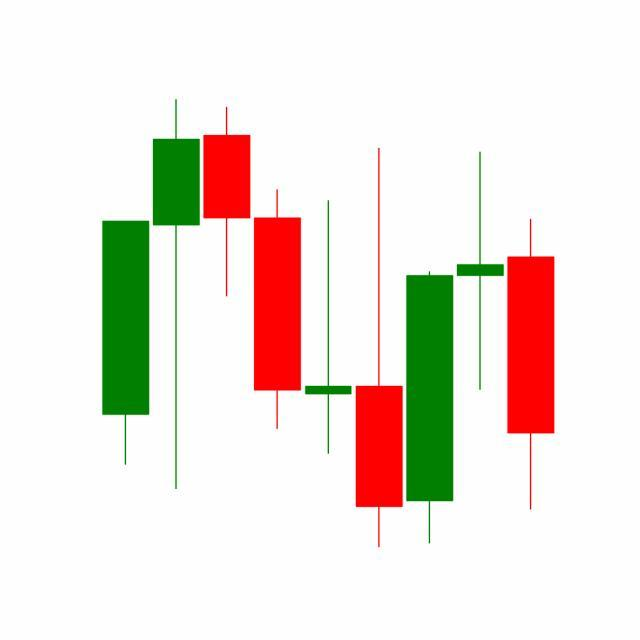Hikkake Pattern: (252, 143, 506, 548)
